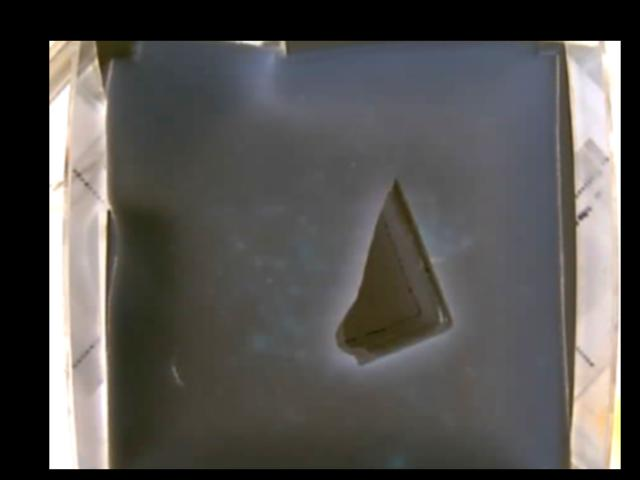China: (335, 180, 450, 363)
